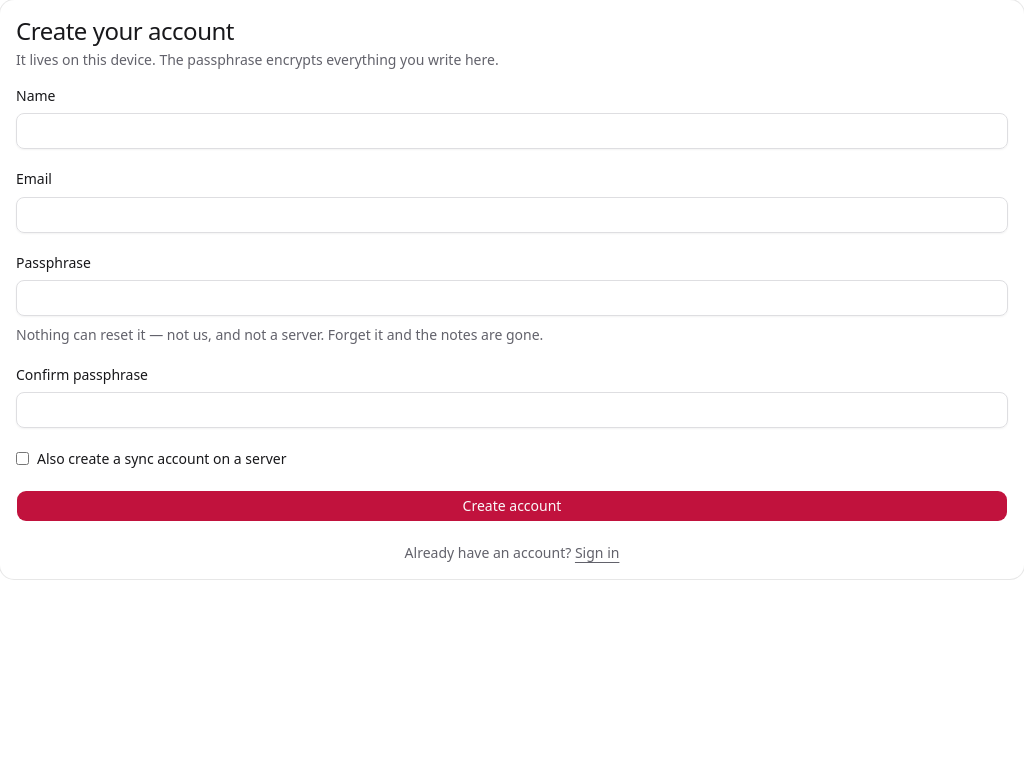
Scenario: SignupForm › requires the two passphrases to match
Type "Ada Lovelace" into the field labelled "Name" at (512, 131), box [16,113,1008,149]
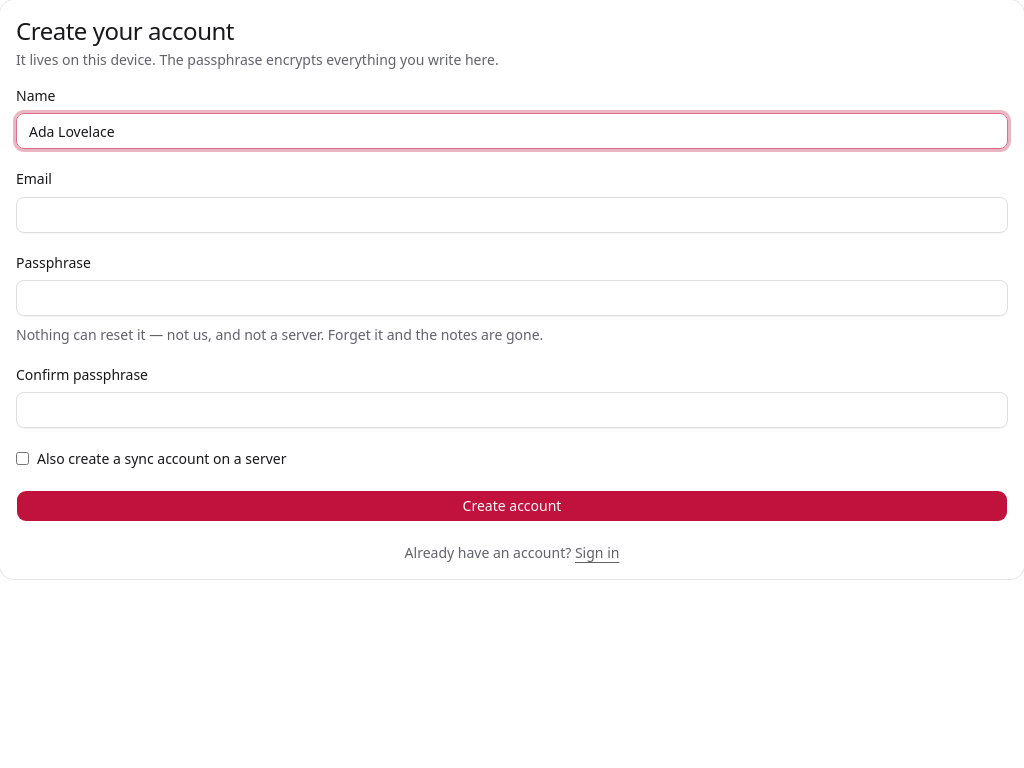
Type "ada@example.com" into the field labelled "Email" at (512, 214), box [16,196,1008,232]
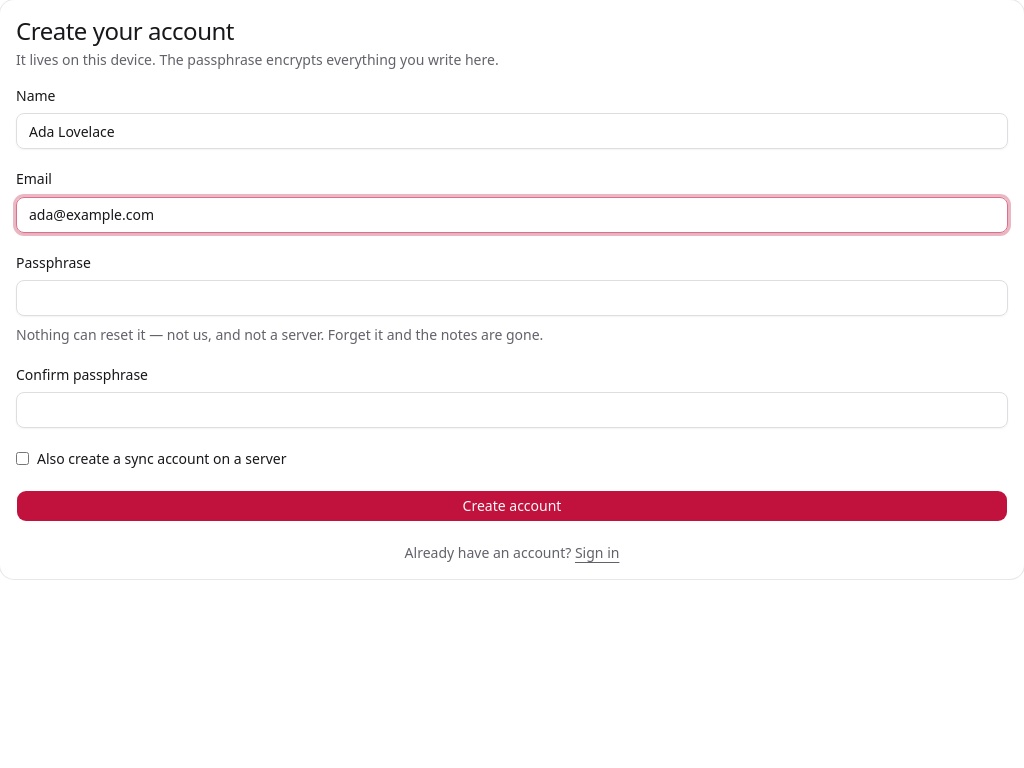
Type "correct-horse" into the password field labelled "Passphrase" at (512, 298), box [16,280,1008,316]
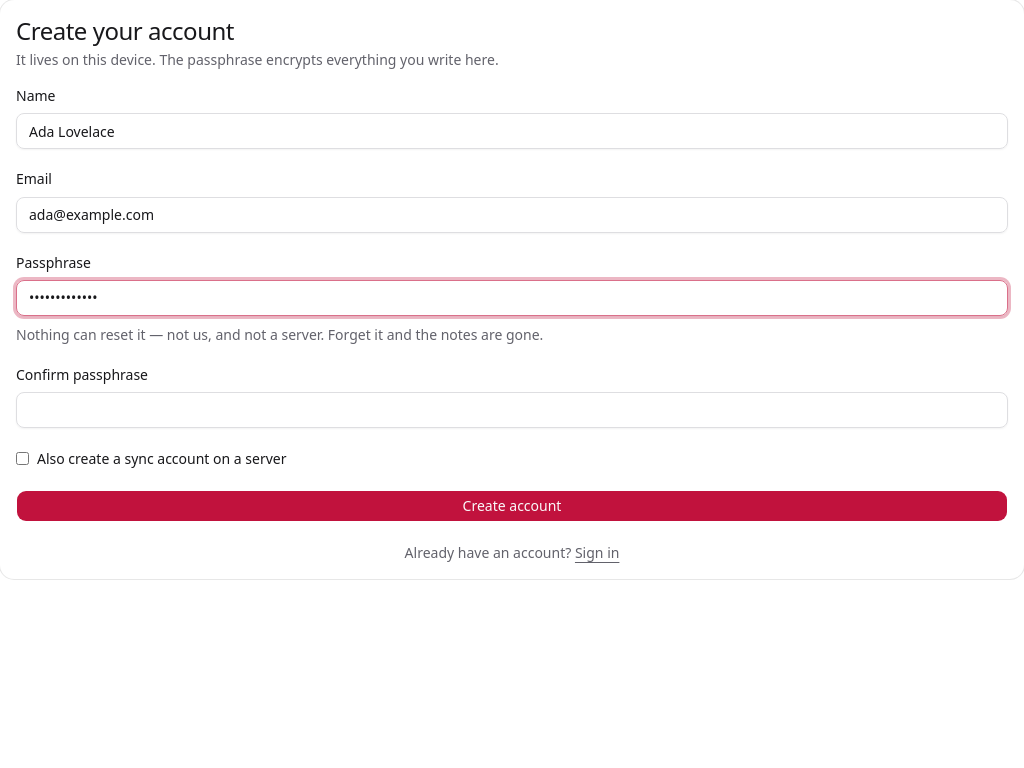
Type "something-else" into the password field labelled "Confirm passphrase" at (512, 410), box [16,392,1008,428]
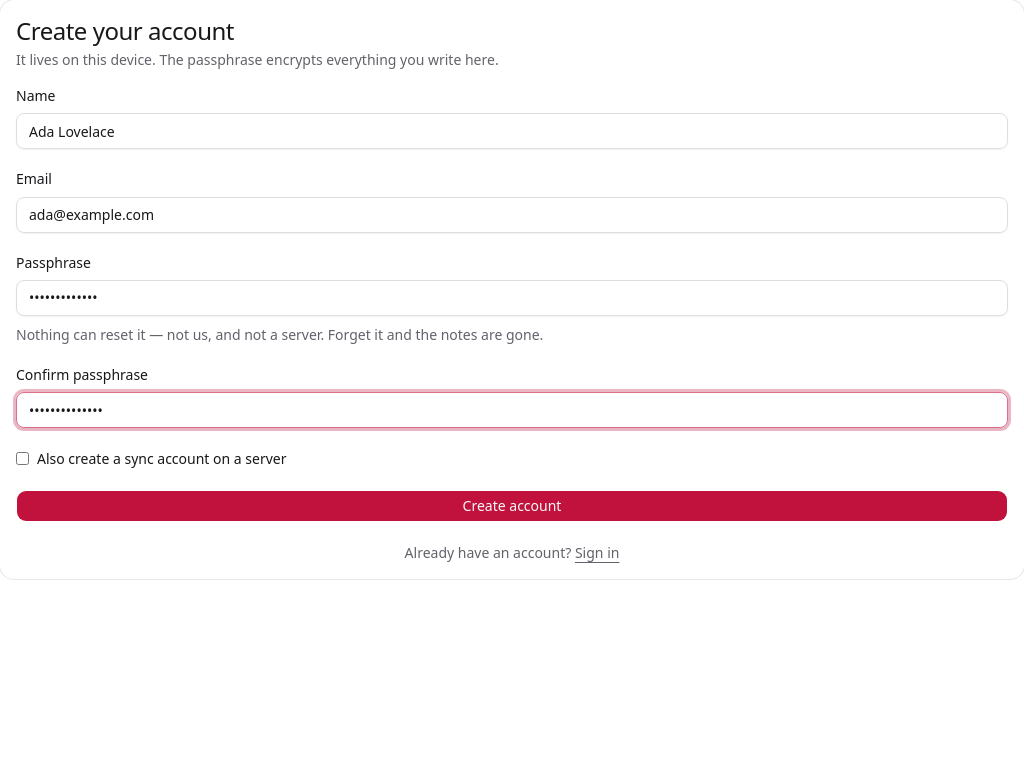
Click the button "Create account" at (512, 506), box [16,490,1008,522]
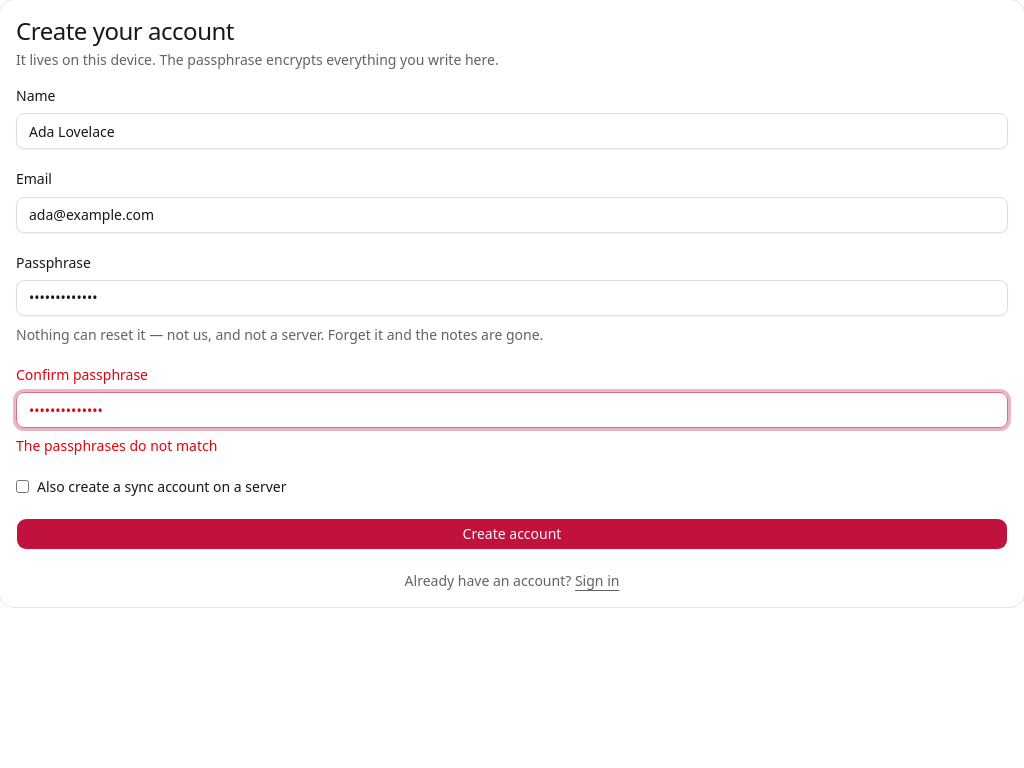
Expected: the text "The passphrases do not match" is shown, [16,436,217,455]
